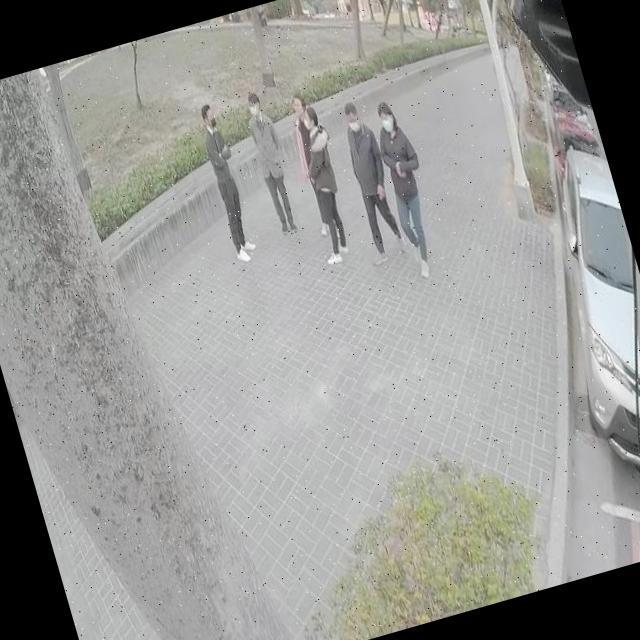person: (329, 92, 414, 274), (280, 96, 366, 271), (366, 91, 446, 278), (280, 89, 352, 242), (193, 101, 258, 262), (238, 87, 302, 238)
